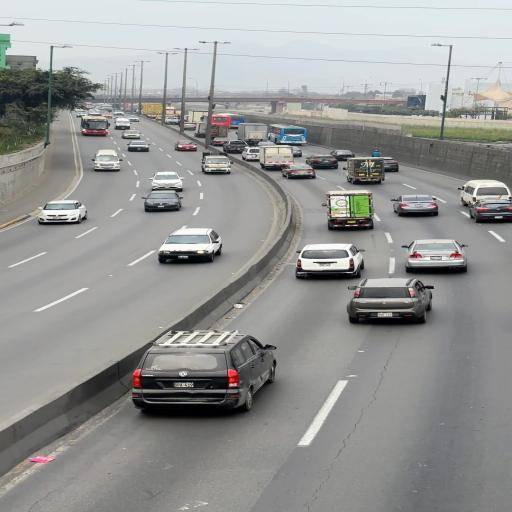auto: (131, 346, 243, 412), (344, 278, 432, 323), (293, 244, 363, 278), (155, 228, 223, 262), (402, 239, 468, 273), (37, 200, 87, 224), (390, 194, 438, 217), (471, 199, 511, 222), (142, 193, 183, 212), (148, 171, 185, 192), (200, 158, 232, 174), (284, 165, 318, 179), (304, 154, 336, 168), (93, 149, 119, 164), (92, 158, 122, 171), (222, 141, 247, 153), (126, 140, 149, 152), (381, 156, 399, 171), (241, 148, 261, 161), (174, 141, 198, 151), (329, 149, 355, 158), (121, 131, 141, 139), (182, 122, 196, 130), (128, 116, 139, 122), (75, 110, 85, 114)
bus: (257, 144, 297, 170), (268, 124, 308, 146), (79, 115, 110, 136), (210, 113, 244, 128), (114, 117, 132, 130), (100, 104, 112, 111)
camion: (321, 188, 375, 229), (458, 179, 510, 208), (344, 156, 386, 184), (236, 123, 269, 145), (141, 103, 179, 117), (184, 110, 208, 128), (194, 121, 210, 137)
moto: (372, 152, 381, 158)
